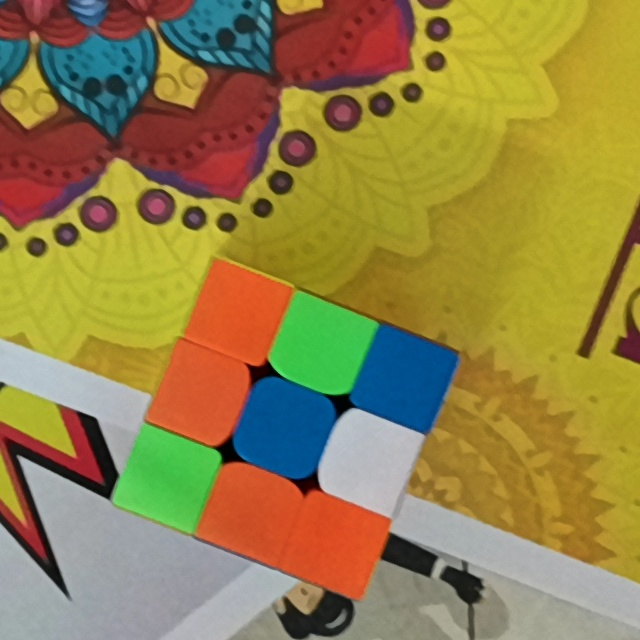tile: (287, 315, 355, 376), (171, 360, 232, 426), (336, 429, 399, 492), (206, 282, 270, 344), (217, 480, 281, 541), (373, 349, 436, 410), (253, 397, 314, 460), (304, 513, 367, 574), (134, 447, 198, 507)
